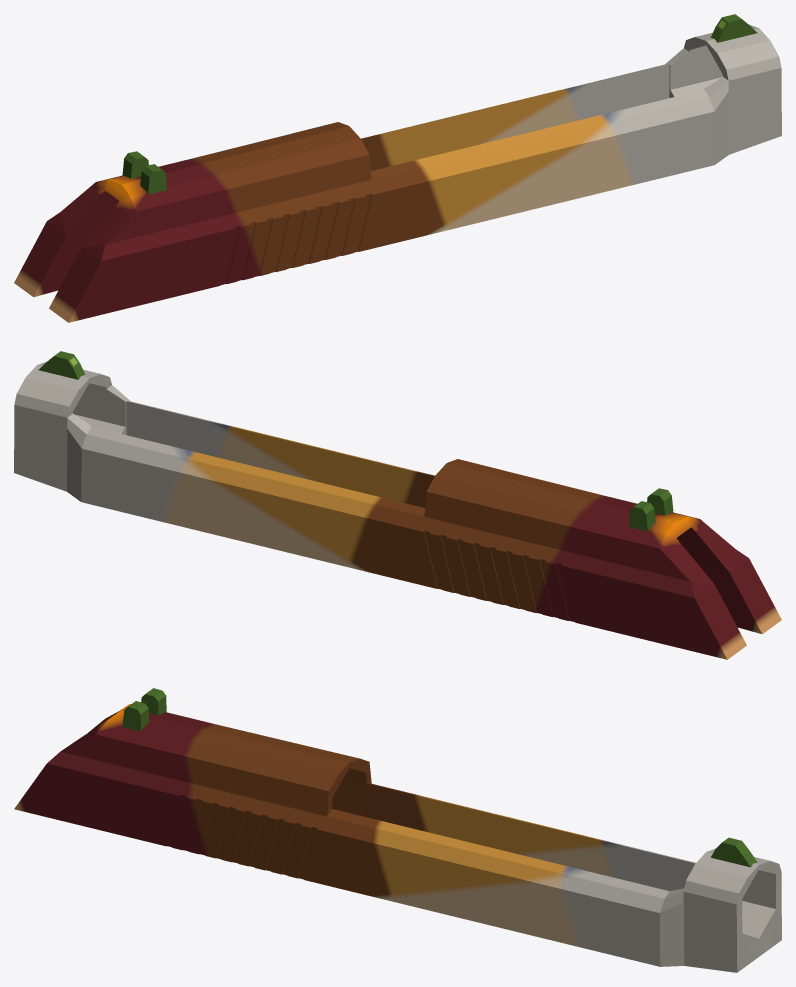
Rendered from Pistol1_06_2.fbx.
3 views of the same model, one above another, from view 1: azimuth 30°, elevation 25°; view 2: azimuth 150°, elevation 25°; view 3: azimuth 330°, elevation 25° (orthographic).
Visible parts, largest first — view 1: Pistol1_06_2; view 2: Pistol1_06_2; view 3: Pistol1_06_2.
Boxes of the visible parts, x1,y1,x2,y2 form: Pistol1_06_2: [14, 14, 781, 322]; Pistol1_06_2: [14, 351, 781, 659]; Pistol1_06_2: [14, 688, 781, 972].
Size of the model in its own units: 0.2348 by 0.0363 by 0.0308.
